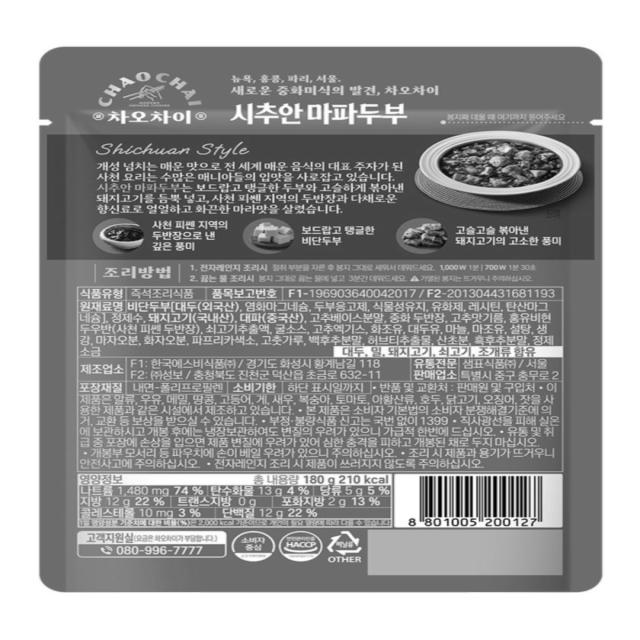Nutrition Label: (61, 469, 399, 536)
